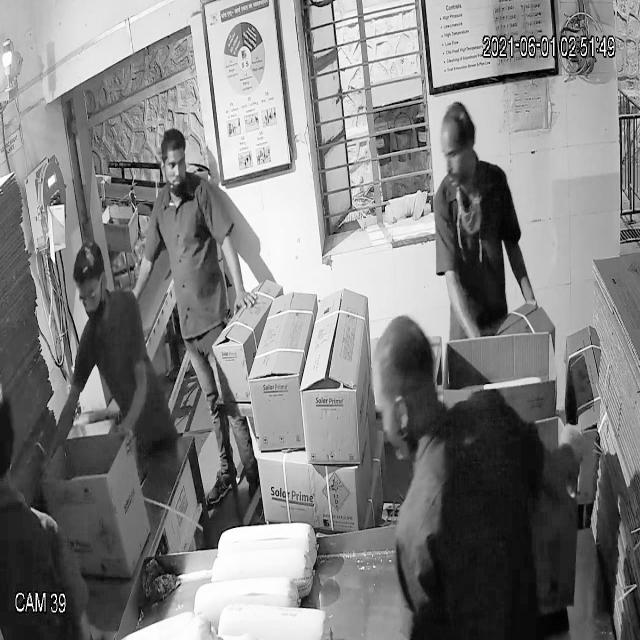glasses: (70, 268, 112, 312)
no-glass: (434, 132, 481, 172)
